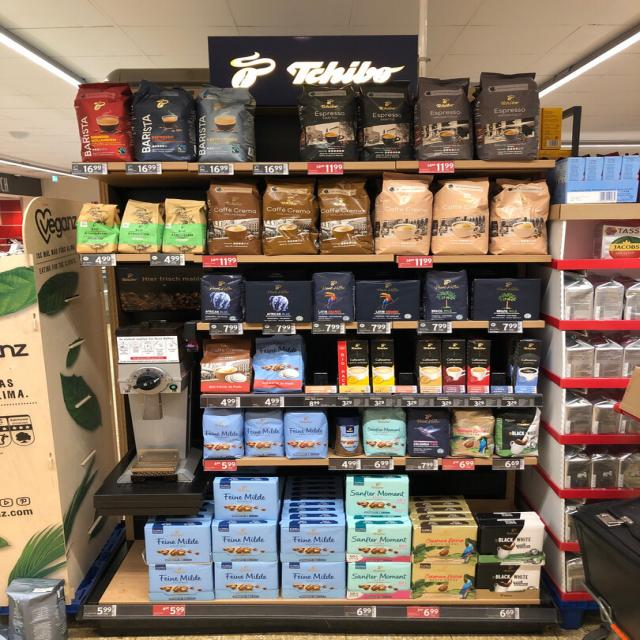AB Bohne: (199, 274, 245, 324)
AB Gemahlen: (244, 280, 314, 324)
Athiopien Bohne: (74, 201, 119, 255)
Athiopien Gemahlen: (162, 196, 209, 256), (118, 198, 164, 254)
BM Bohne: (422, 268, 472, 322)
BM Gemahlen: (472, 278, 542, 322)
BW Bohne: (496, 408, 541, 458)
BW Gemahlen: (478, 525, 546, 566), (476, 564, 540, 600)
Barista CC: (194, 83, 259, 164)
Barista Espresso: (130, 78, 197, 163)
Barista Kolumbien: (69, 80, 134, 164)
C Fino Bohne: (405, 408, 450, 458)
CC Mild: (372, 172, 433, 256), (491, 176, 552, 256), (432, 178, 491, 255)
CC Vollmundig: (198, 337, 252, 394)
CC Vollmundig 36 Pads: (316, 176, 374, 256), (205, 181, 263, 257), (262, 179, 318, 255)
Colombia BB Bohne: (449, 408, 495, 458)
Colombia BB Gemahlen: (411, 526, 479, 564), (410, 563, 477, 600)
Espresso Aromatisch: (476, 70, 542, 162), (411, 75, 476, 162)
Espresso Kraftig: (297, 82, 361, 162), (358, 81, 414, 161)
FM 36 Pads: (252, 334, 304, 394)
FM Bohne: (282, 409, 329, 460), (201, 408, 244, 459), (242, 408, 285, 458)
FM Gemahlen: (211, 480, 282, 522), (147, 563, 216, 602), (143, 526, 213, 564), (210, 524, 279, 562), (212, 562, 280, 600), (280, 562, 347, 600), (278, 526, 348, 562)
FM Instant: (333, 414, 363, 457)
LG Bohne: (311, 271, 356, 323)
LG Gemahlen: (354, 280, 422, 322)
SM Bohne: (361, 408, 407, 458)
SM Gemahlen: (346, 526, 414, 563), (345, 480, 410, 518), (346, 563, 412, 600)
Simo CCMild: (337, 340, 371, 394)
Simo CCMild bigpack: (371, 339, 396, 393)
Simo Decaff: (416, 339, 443, 394)
Simo Es Elegant: (466, 339, 492, 394)
Simo Es Kraft: (441, 338, 468, 394)
Simo Kaffee Mild: (514, 340, 544, 394)
